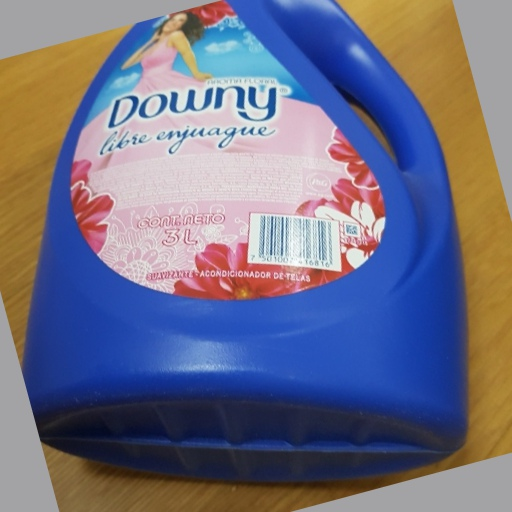Plastic_1: (29, 1, 466, 475)
